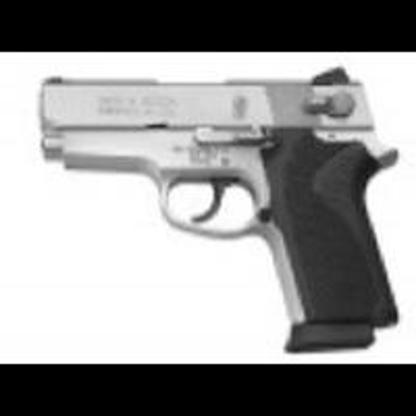weapon: (33, 61, 403, 357)
